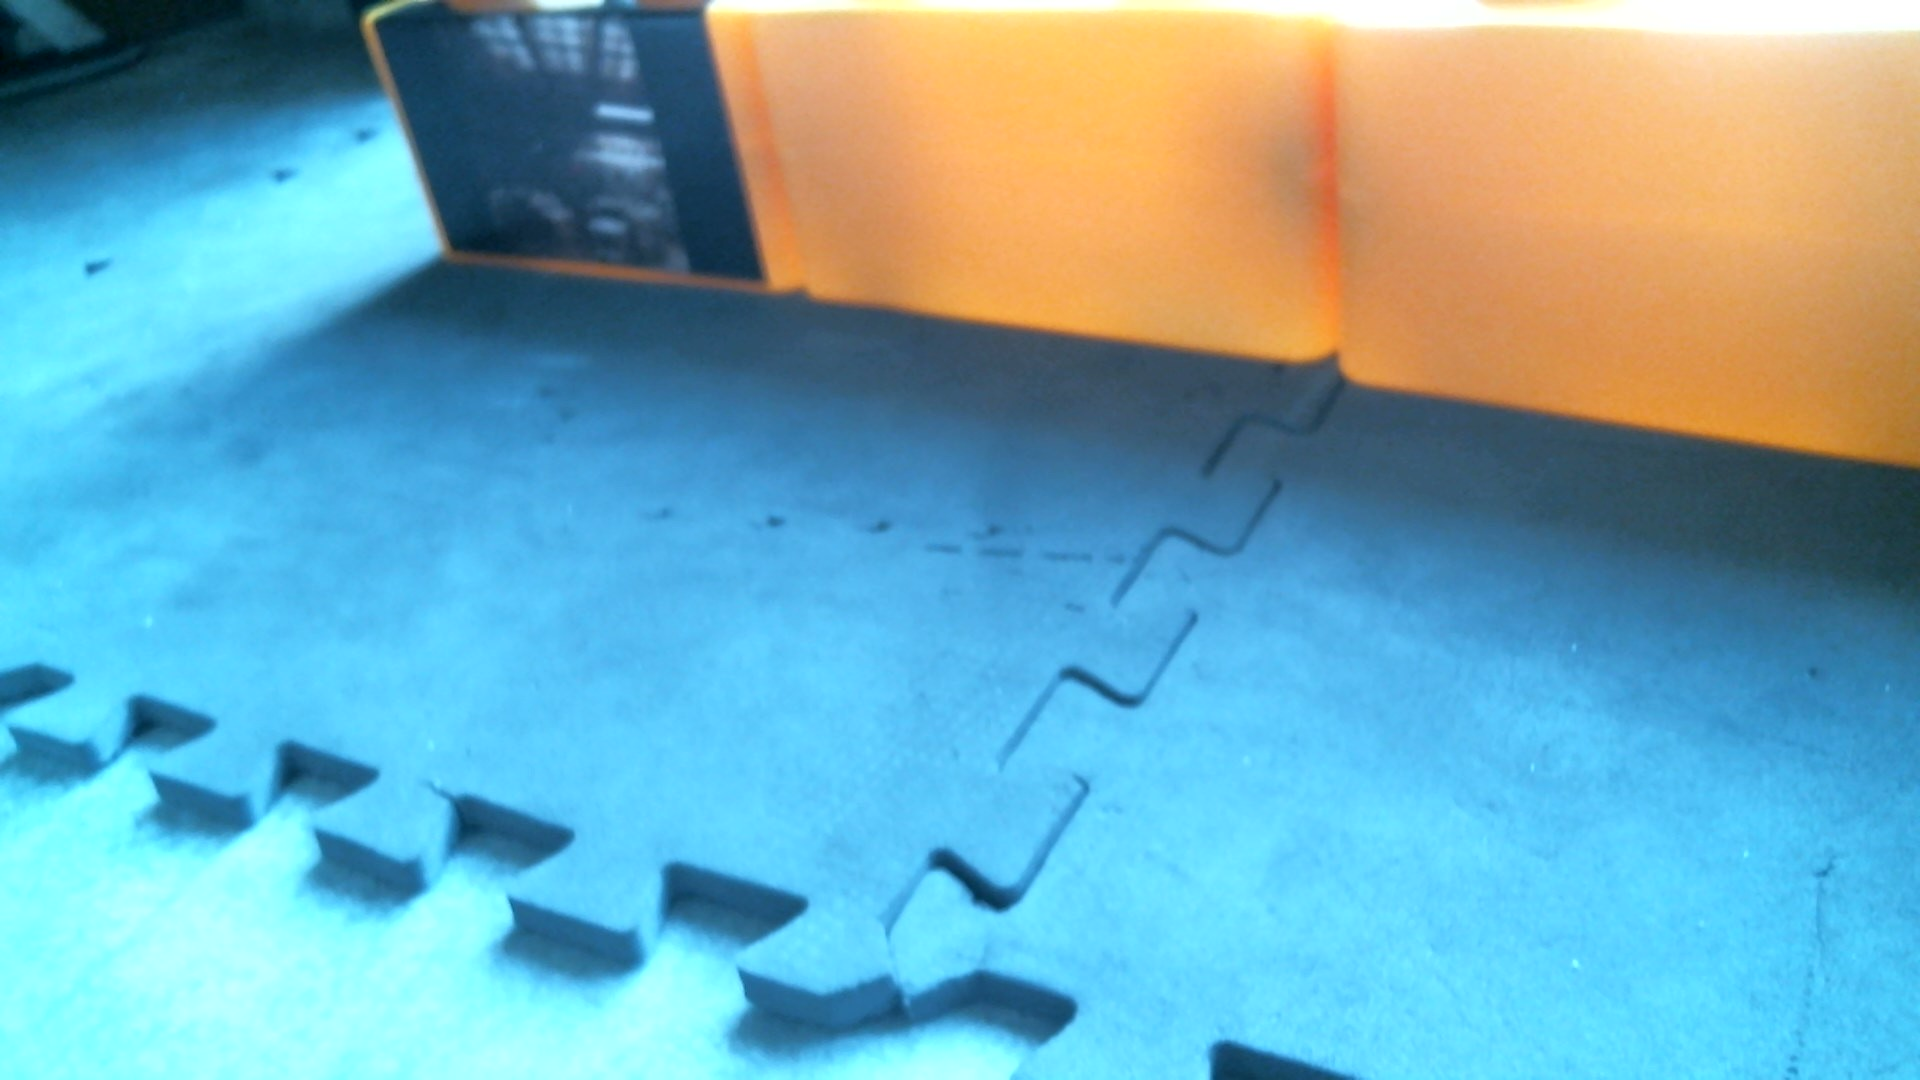left: (316, 1, 1913, 465)
